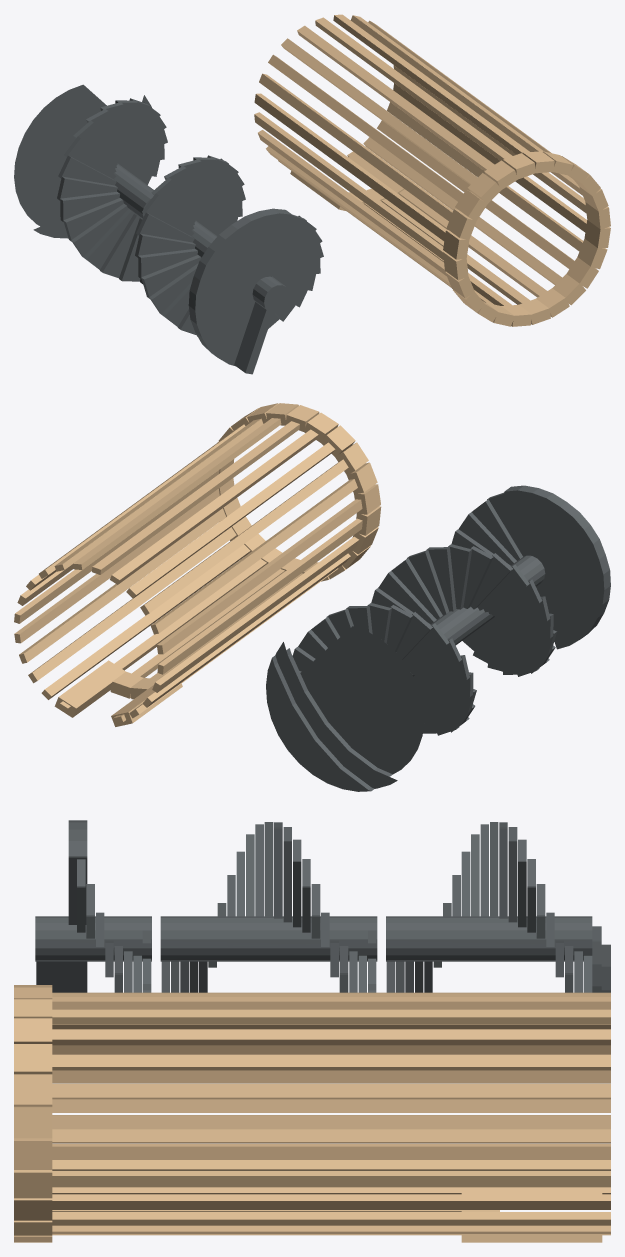
The model's file is tinker.obj.
3 views of the same model, one above another, from view 1: azimuth 30°, elevation 25°; view 2: azimuth 150°, elevation 25°; view 3: azimuth 270°, elevation 25° (orthographic). The views are drawn at different scales.
Visible parts, largest first — view 1: group_0_14860437, group_0_6383466; view 2: group_0_6383466, group_0_14860437; view 3: group_0_14860437, group_0_6383466.
Part boxes in pixels (x1,y1,x2,y2): group_0_14860437: (254,14,610,326); group_0_6383466: (14,84,323,374); group_0_6383466: (266,485,610,791); group_0_14860437: (14,403,381,726); group_0_14860437: (14,985,610,1242); group_0_6383466: (35,820,610,992).
Bounding box in the file's own units: 77.6 × 30.21 × 70.
